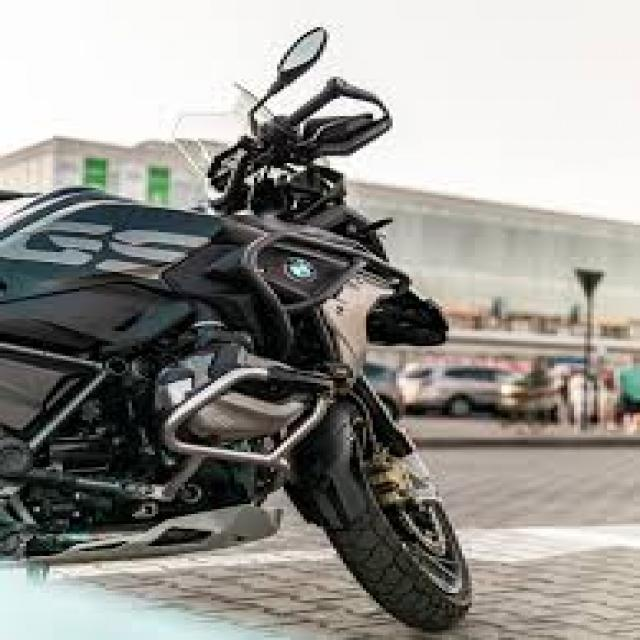Bike: (0, 24, 478, 632)
